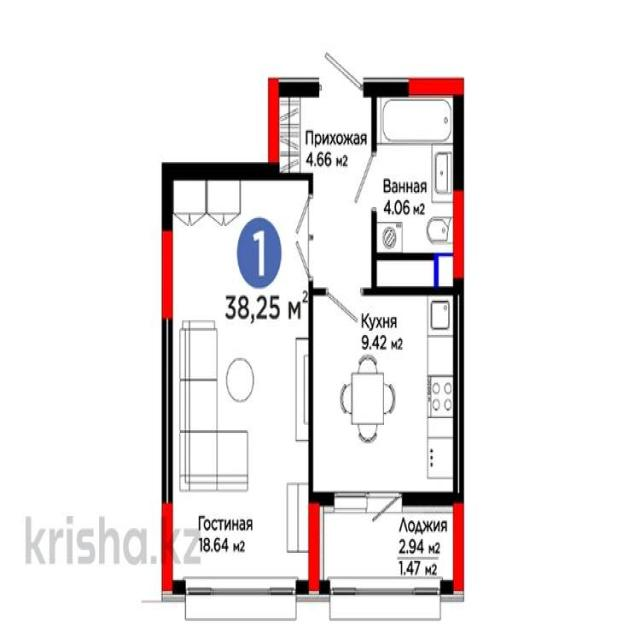balcony: (317, 494, 460, 592)
bathroom: (373, 85, 458, 288)
hallway: (271, 82, 376, 292)
kitchen: (312, 288, 461, 500)
living_room: (165, 171, 311, 596)
